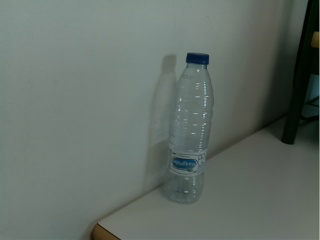botella plastico: (162, 46, 212, 207)
